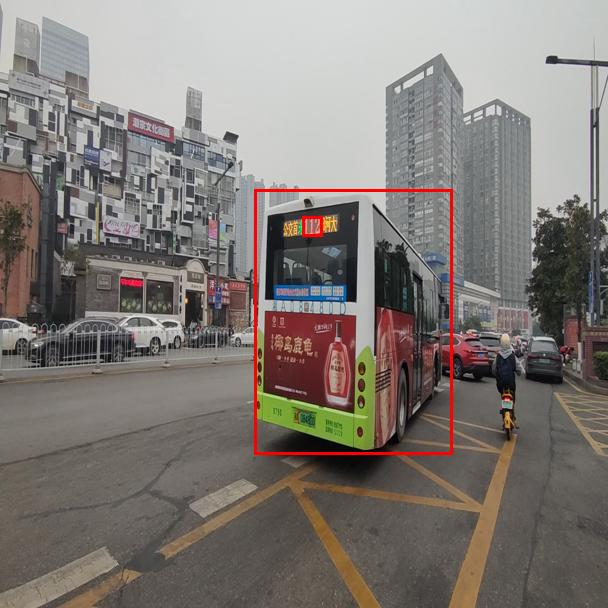bus: (254, 189, 452, 454)
screen: (302, 216, 322, 236)
